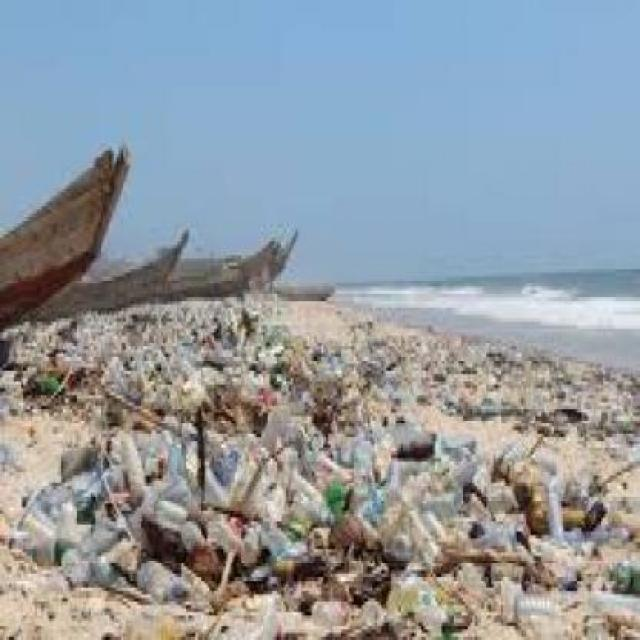garbage: (5, 315, 638, 636)
